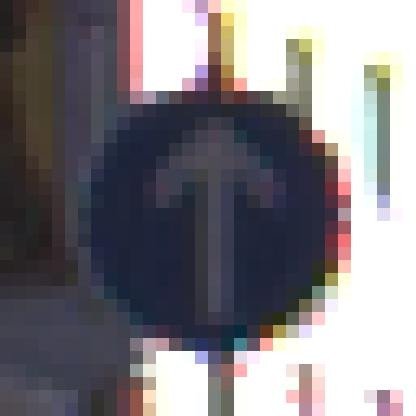AheadOnly: (79, 79, 352, 352)
